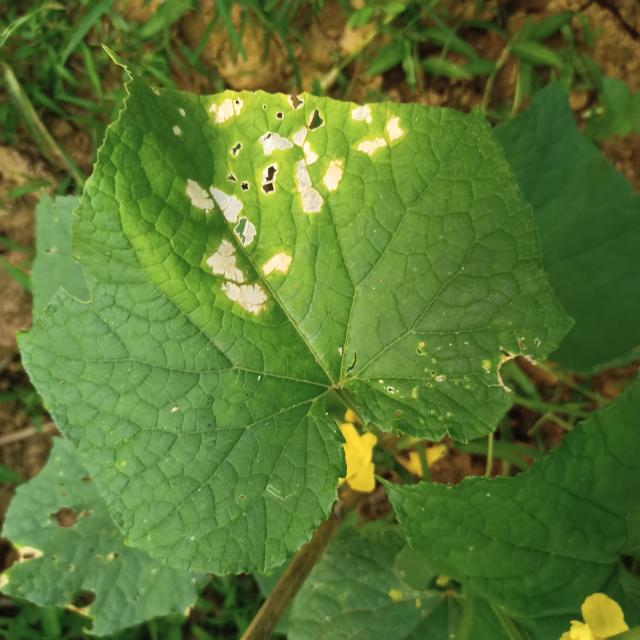disease_cucumber: (162, 91, 410, 332)
